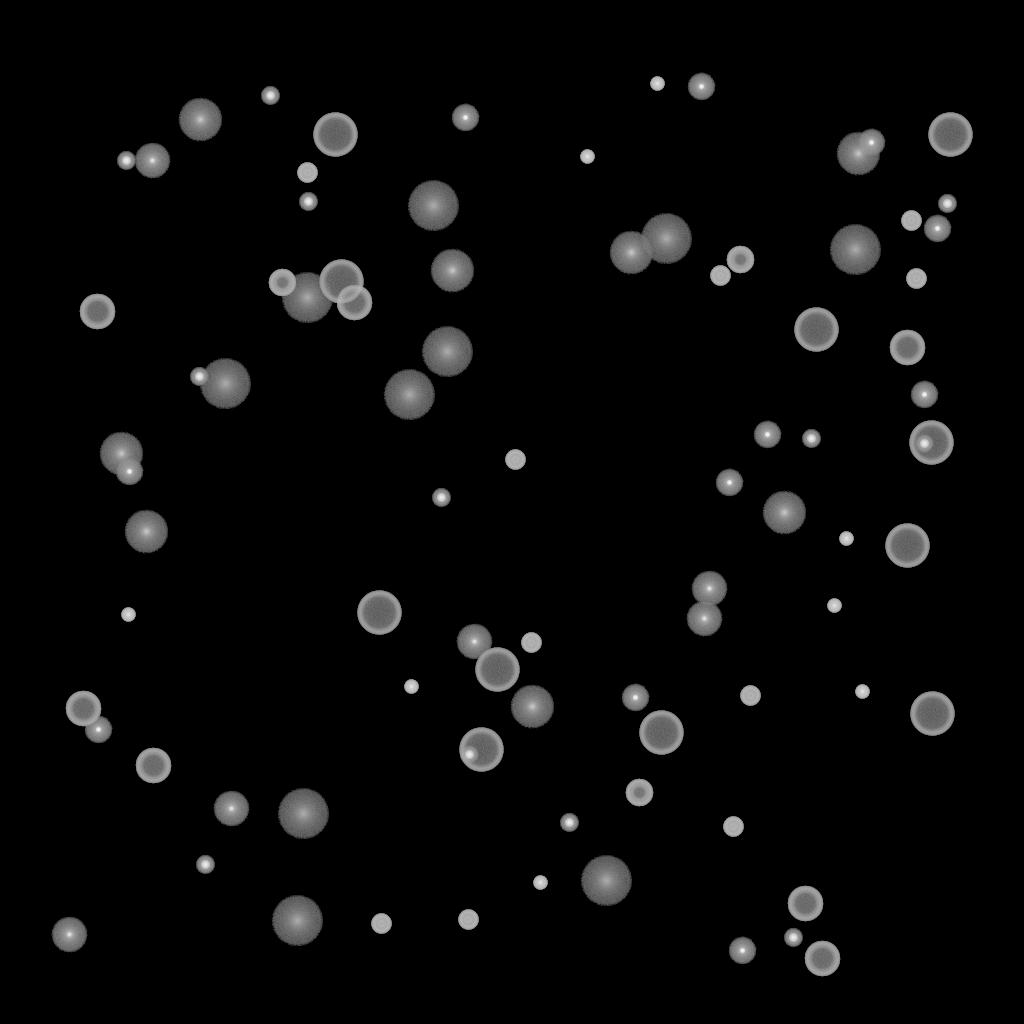depth:-10: (923, 215, 951, 243), (715, 469, 743, 497), (84, 716, 112, 744), (857, 129, 885, 157), (451, 104, 479, 132), (621, 684, 649, 712), (910, 381, 938, 409), (115, 458, 143, 486), (687, 73, 715, 101), (753, 421, 781, 449), (728, 937, 756, 965)
depth:-20: (117, 152, 135, 170), (299, 193, 317, 211), (938, 195, 956, 213), (196, 856, 214, 874), (261, 87, 279, 105), (915, 435, 933, 453), (560, 814, 578, 832), (432, 489, 450, 507), (802, 430, 820, 448), (784, 929, 802, 947), (460, 746, 478, 764), (190, 368, 208, 386)
depth:-30: (533, 876, 547, 890), (855, 685, 869, 699), (404, 680, 418, 694), (827, 599, 841, 613), (580, 150, 594, 164), (839, 532, 853, 546), (650, 77, 664, 91), (121, 608, 135, 622)
depth:-40: (505, 450, 525, 470), (740, 686, 760, 706), (710, 266, 730, 286), (371, 914, 391, 934), (521, 633, 541, 653), (901, 211, 921, 231), (723, 817, 743, 837), (297, 163, 317, 183), (458, 910, 478, 930), (906, 269, 926, 289)
depth:-50: (625, 779, 653, 807), (726, 246, 754, 274), (268, 269, 296, 297)
depth:-60: (65, 691, 101, 727), (135, 748, 171, 784), (336, 285, 372, 321), (787, 886, 823, 922), (804, 941, 840, 977), (79, 294, 115, 330), (889, 330, 925, 366)
depth:-70: (794, 308, 838, 352), (928, 113, 972, 157), (459, 728, 503, 772), (639, 711, 683, 755), (909, 421, 953, 465), (910, 692, 954, 736), (885, 524, 929, 568), (313, 113, 357, 157), (357, 591, 401, 635), (475, 648, 519, 692), (319, 260, 363, 304)
depth:0: (691, 571, 727, 607), (213, 791, 249, 827), (134, 143, 170, 179), (51, 917, 87, 953), (456, 624, 492, 660), (686, 601, 722, 637)
depth:10: (762, 491, 806, 535), (99, 432, 143, 476), (836, 132, 880, 176), (609, 231, 653, 275), (430, 249, 474, 293), (510, 685, 554, 729), (178, 98, 222, 142), (124, 510, 168, 554)
depth:20: (640, 214, 692, 264), (407, 181, 459, 231), (281, 273, 333, 323), (271, 896, 323, 946), (199, 359, 251, 409), (421, 327, 473, 377), (829, 225, 881, 275), (383, 370, 435, 420), (580, 856, 632, 906), (277, 789, 329, 839)
